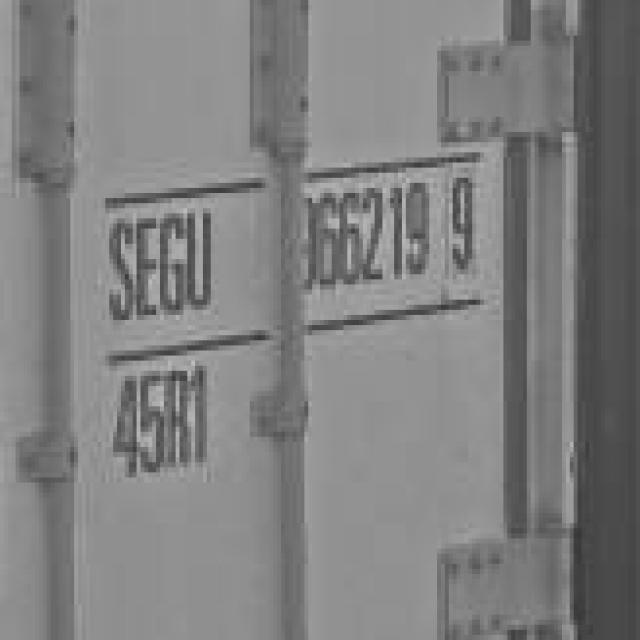dv: (446, 158, 486, 290)
owner: (95, 177, 231, 323)
serial: (296, 169, 438, 299)
size: (96, 358, 221, 486)
